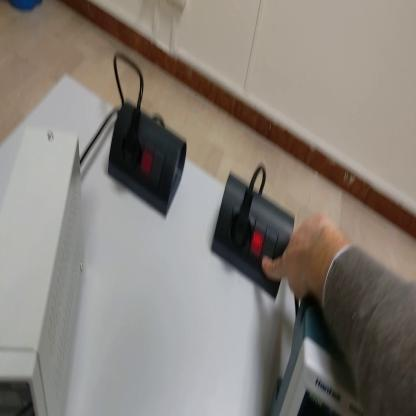hand: (262, 215, 343, 306)
oscilloscope: (274, 295, 398, 412)
power supply: (3, 124, 86, 414)
socket: (211, 173, 294, 308), (107, 99, 189, 218)
